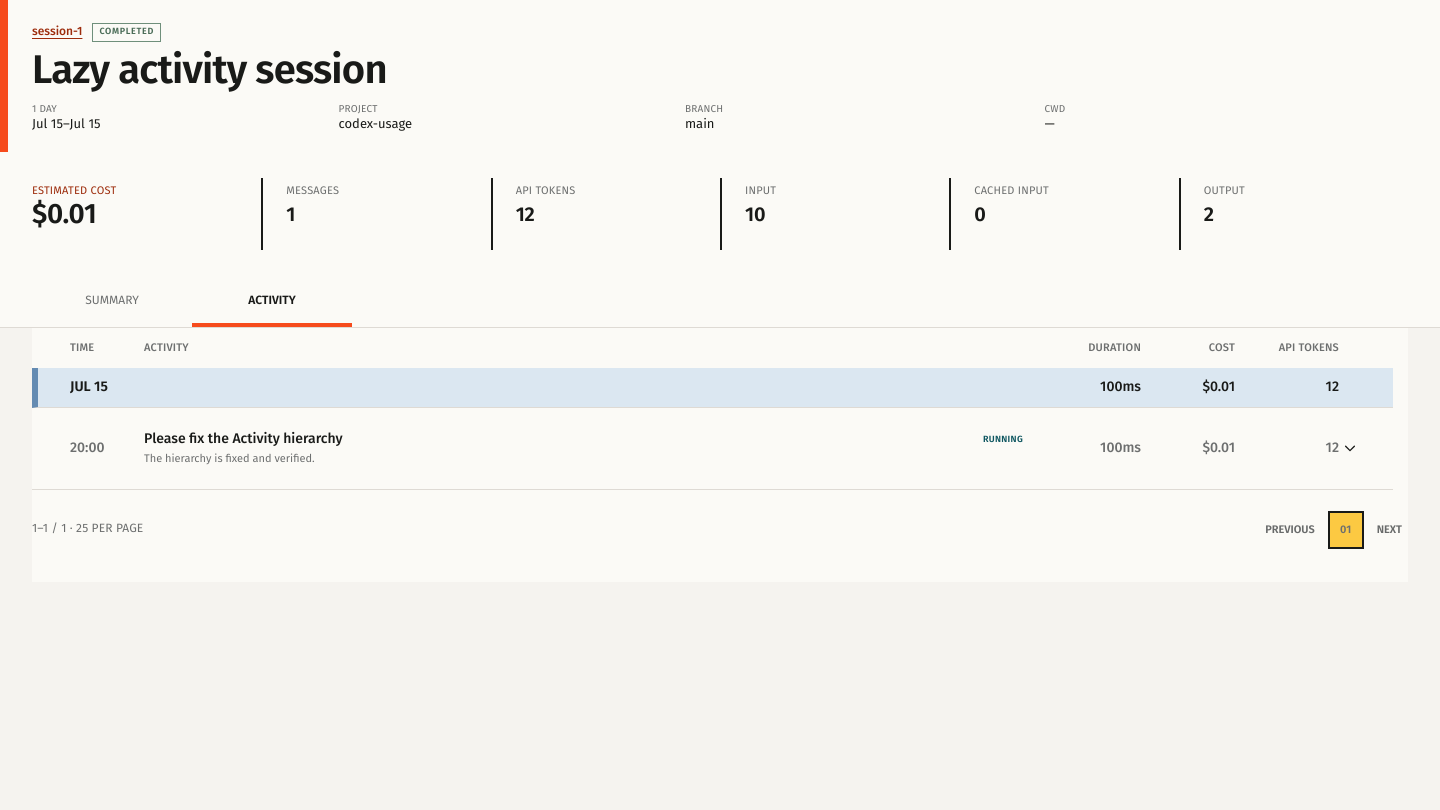
Test: SessionDetailPage activity › revalidates every explicitly loaded Activity child page during polling
This screenshot has width=1440, height=810.
Click the button "Please fix the Activity hierarchy".
click(243, 438)  # box [144,430,1023,467]
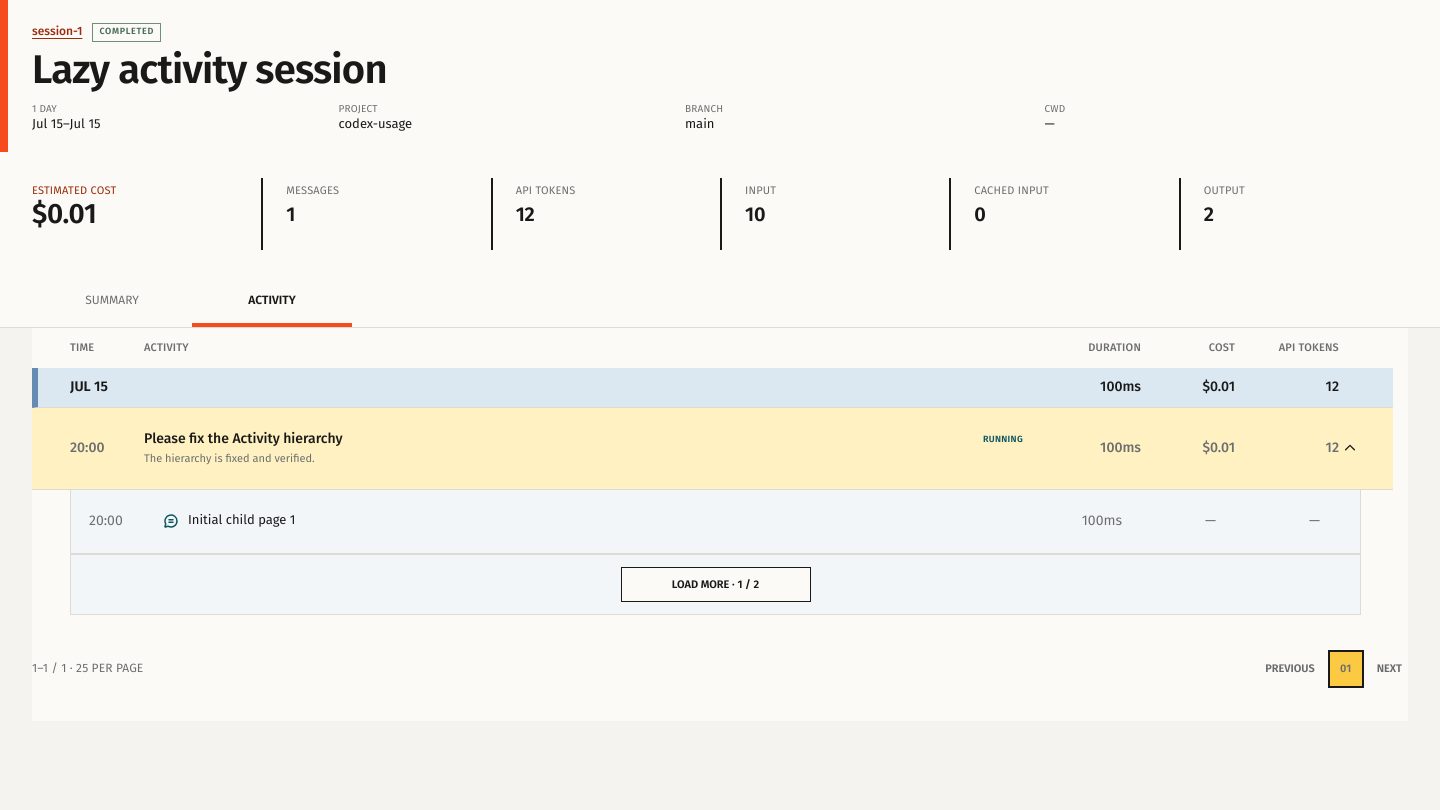
Expected: the text "Initial child page 1" is shown, [188,513,295,528]
Click the button "LOAD MORE · 1 / 2".
click(716, 584)  # box [620,567,810,602]
Wait 30000 ms
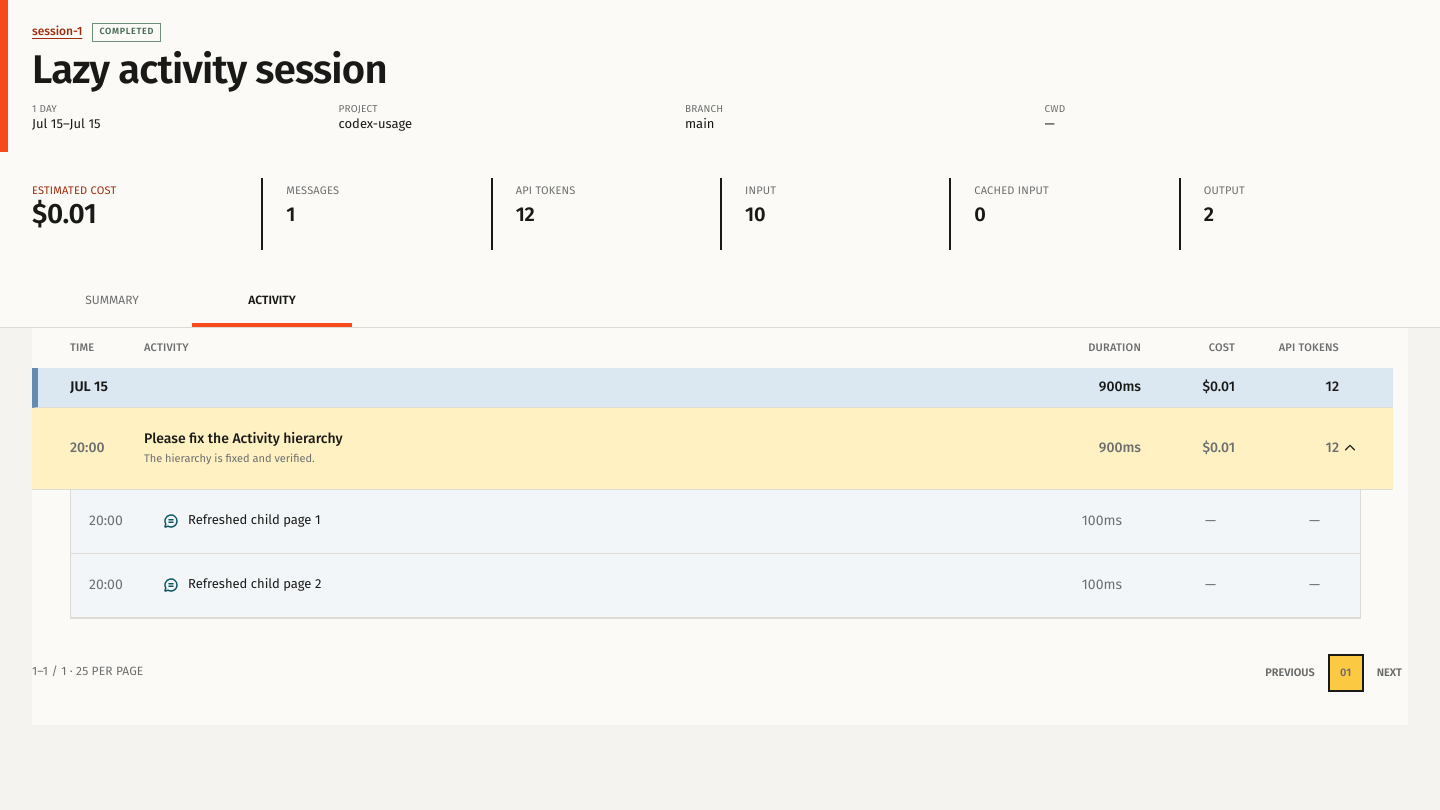
Expected: the text "Refreshed child page 1" is shown, [188,513,320,528]
Expected: the text "Refreshed child page 2" is shown, [188,577,321,592]
Expected: the text "Initial child page 1" is gone
